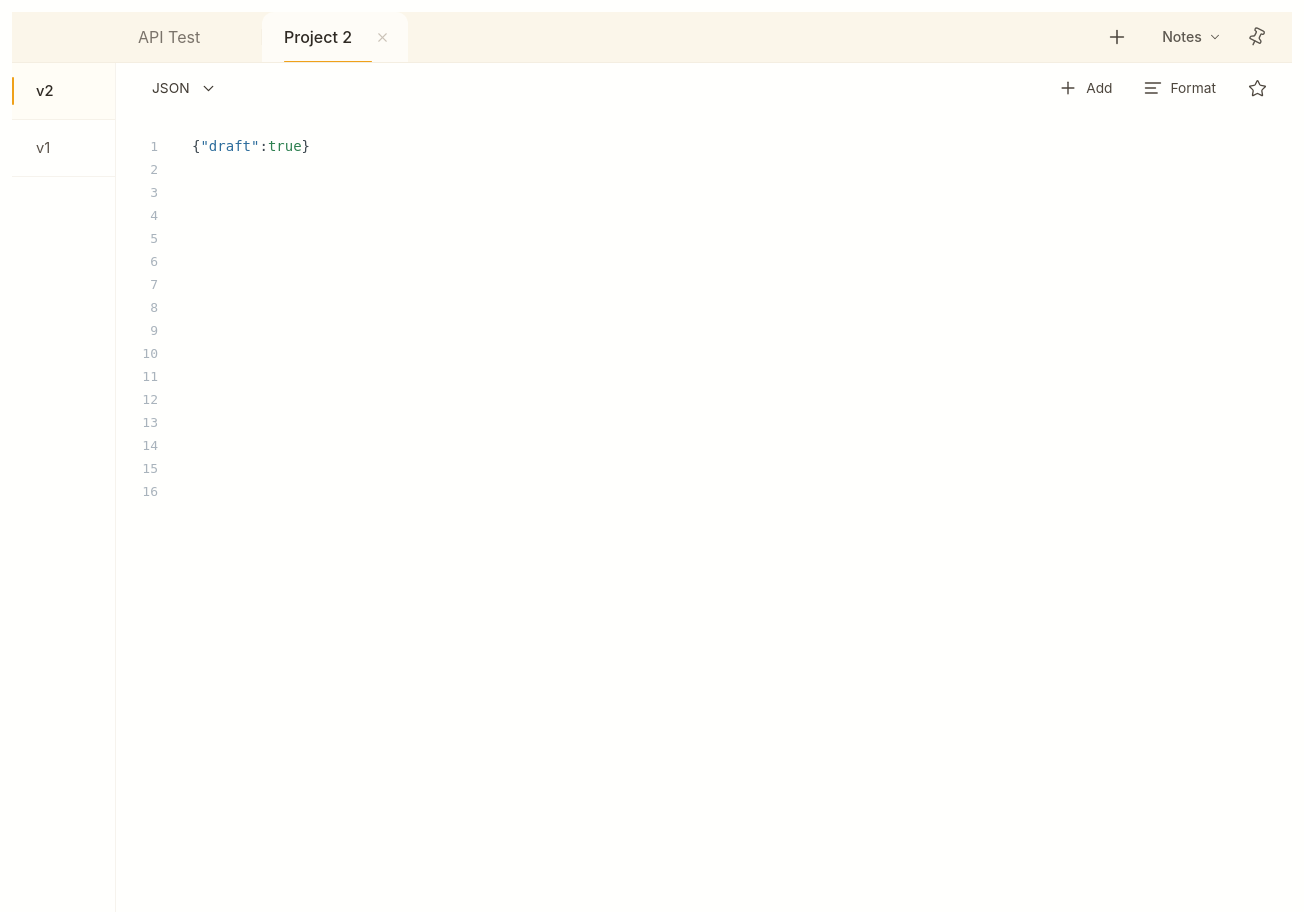
Test: App project and version lifecycle › creates a new project from Notes and closes the menu into inline naming
The image size is (1304, 912).
Step 1. Click the button with aria-label "Open notes menu" → [1192, 37], box x1=1154 y1=18 x2=1230 y2=56
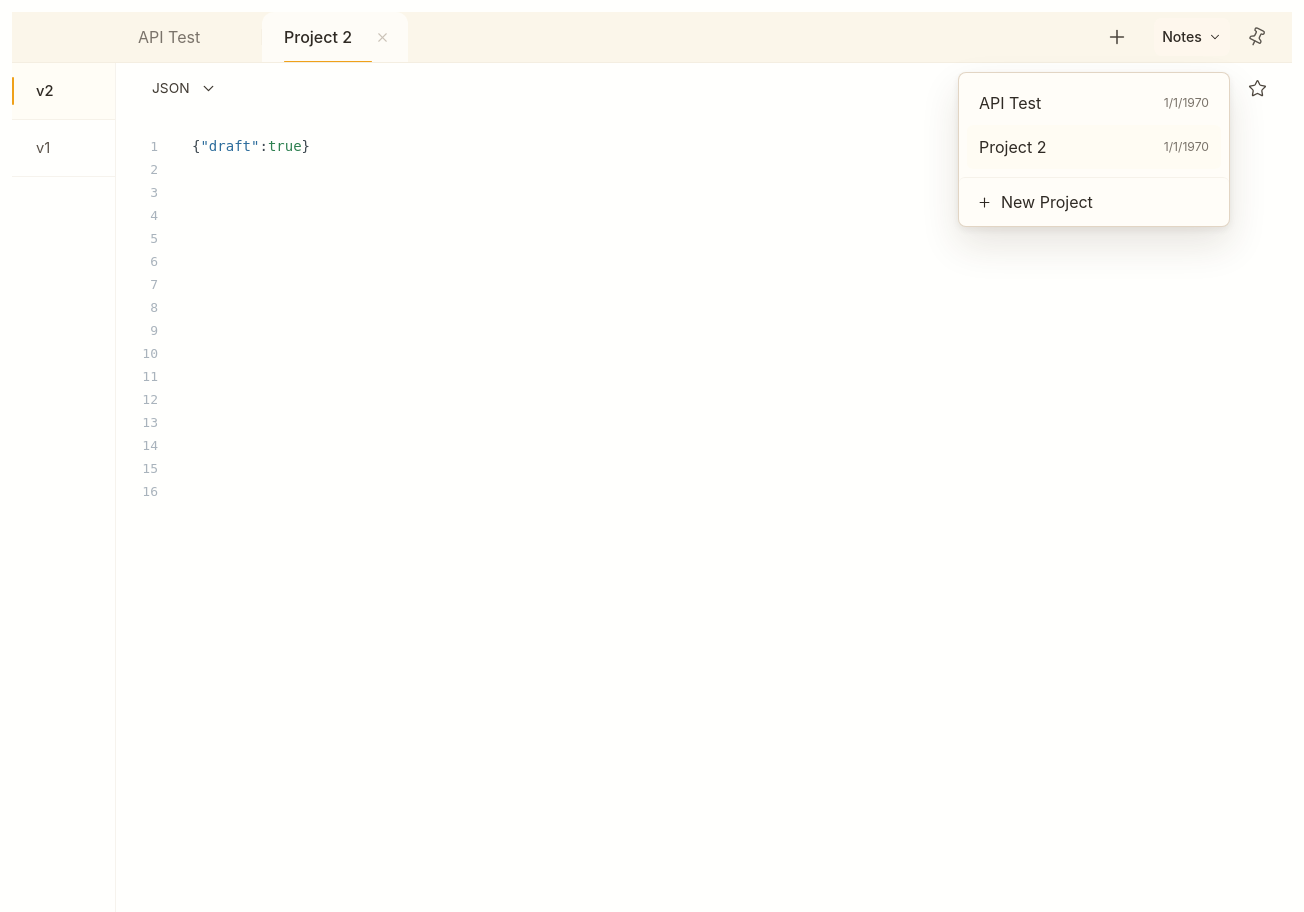
Step 2. Click the button "New Project" → [1094, 202], box x1=959 y1=177 x2=1229 y2=226
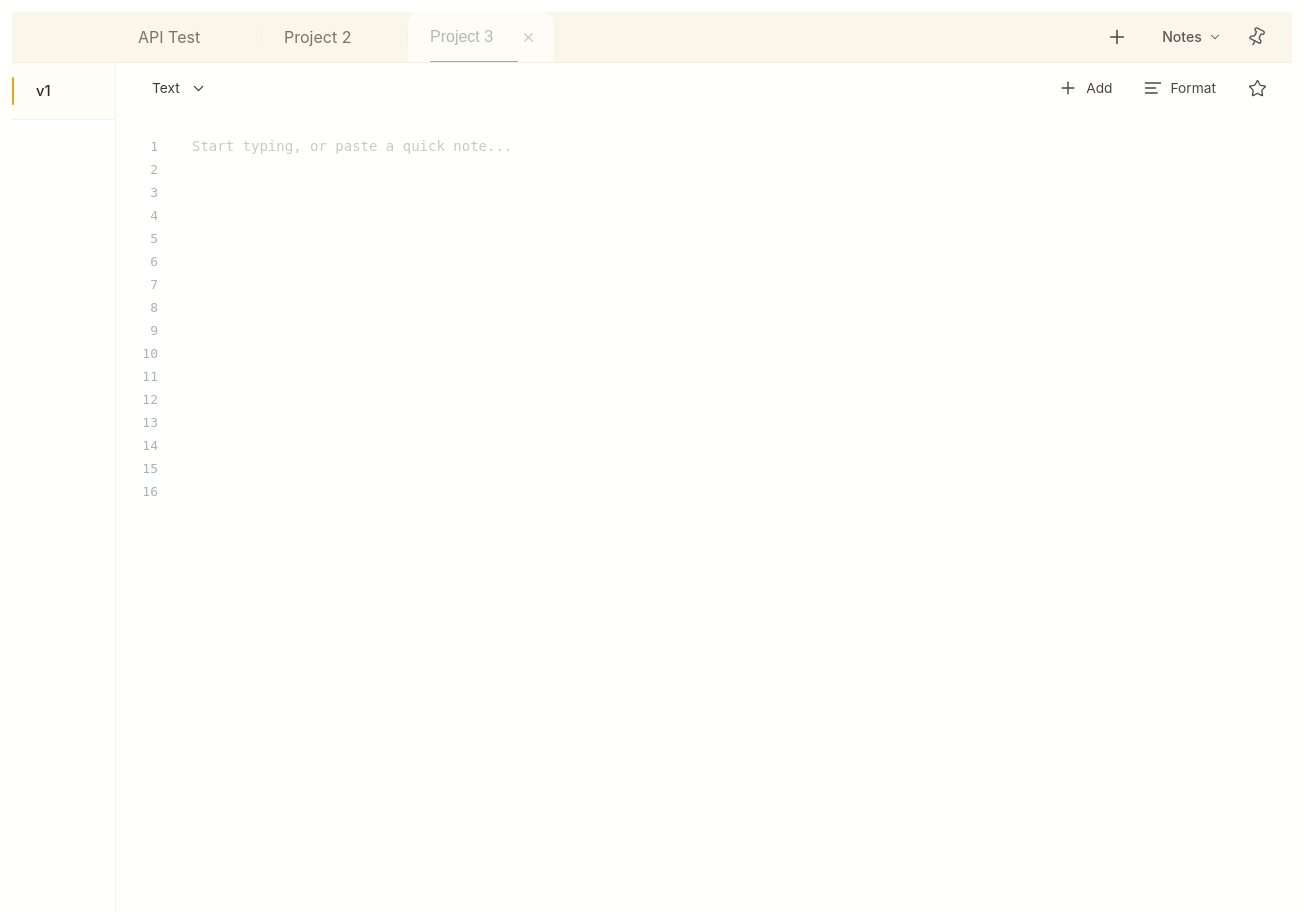
Now the menu is gone
Now the field named "Rename Project 3" is shown, box x1=422 y1=20 x2=518 y2=54
Now the element named "Project 3 editor" is shown
